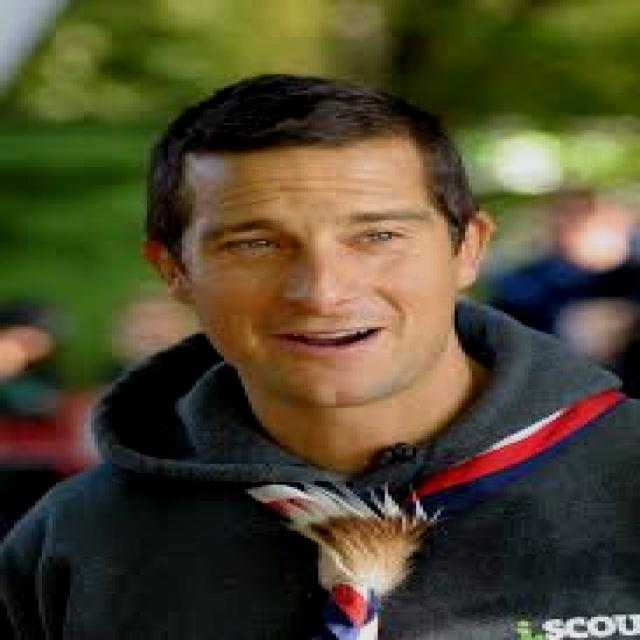normal_face: (176, 117, 452, 405)
